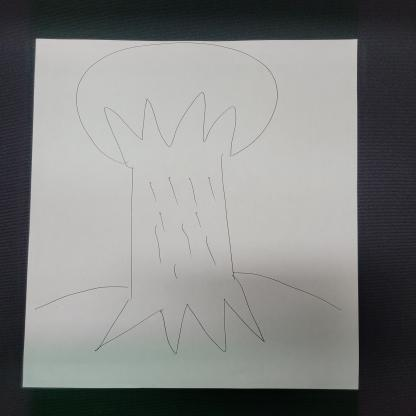branch_sharp: (103, 93, 241, 148)
crown_mushroom: (74, 43, 279, 165)
root_upside: (96, 257, 266, 353)
trunk_bark: (130, 174, 233, 256)
